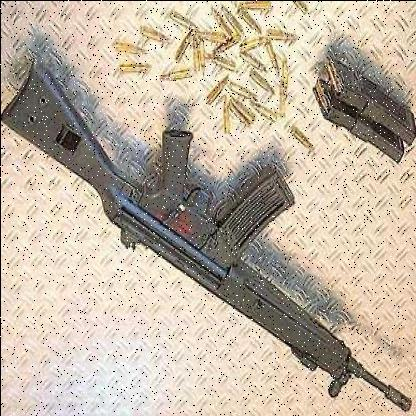rifle: (1, 49, 410, 413)
